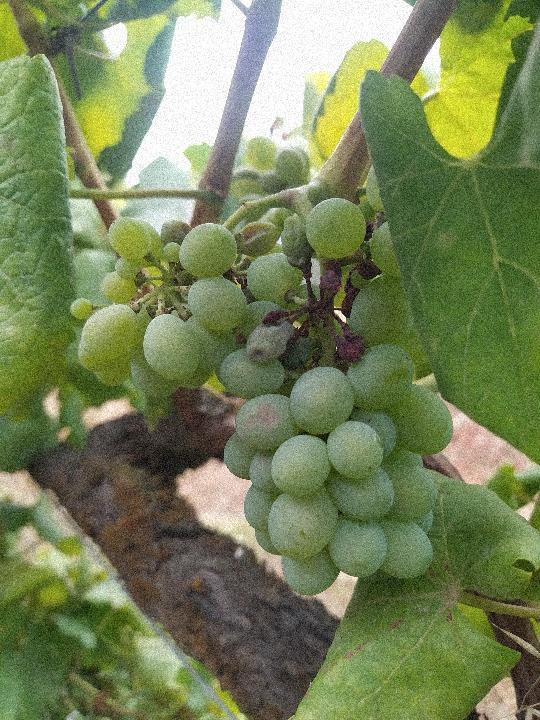grape: (77, 195, 456, 601)
